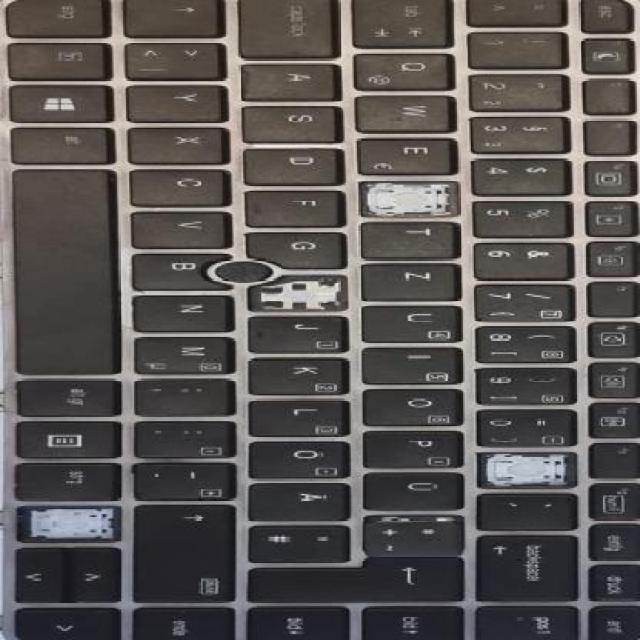Keyboard problems: (477, 452, 577, 488), (17, 506, 120, 540), (249, 277, 346, 311), (362, 182, 457, 215)
